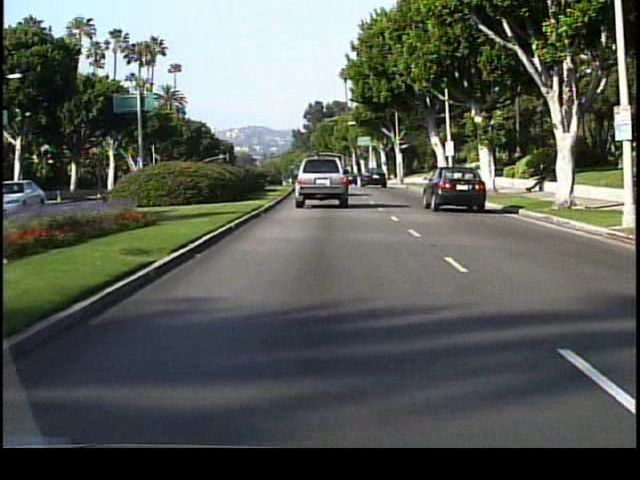person: (527, 160, 551, 198)
